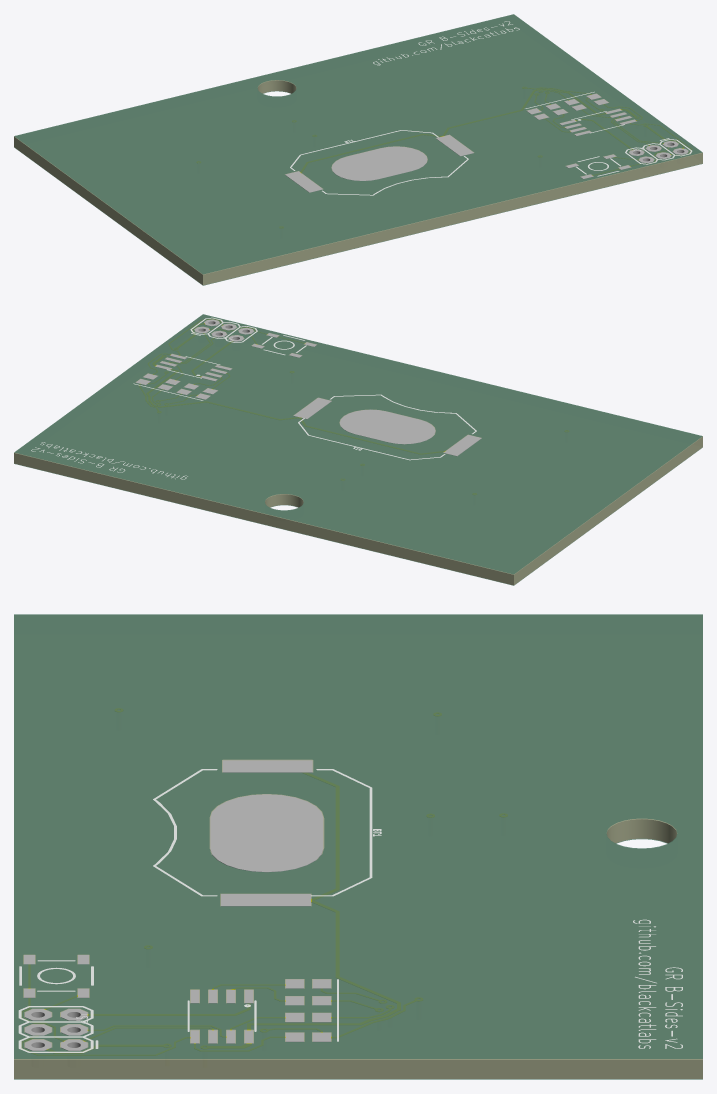
The model's file is b-sides-iowa-2018-badge.glb.
The picture shows the model from 3 angles, top to bottom: view 1: azimuth 30°, elevation 25°; view 2: azimuth 150°, elevation 25°; view 3: azimuth 270°, elevation 25°; orthographic projection. The views are drawn at different scales.
Visible parts, largest first — view 1: =>[0:1:1:9], =>[0:1:1:7], =>[0:1:1:2], =>[0:1:1:5]; view 2: =>[0:1:1:9], =>[0:1:1:7], =>[0:1:1:2], =>[0:1:1:5]; view 3: =>[0:1:1:9], =>[0:1:1:7], =>[0:1:1:2], =>[0:1:1:5].
Boxes of the visible parts, left/top/right/bottom form: =>[0:1:1:9]: left=14, top=15, right=702, bottom=285; =>[0:1:1:7]: left=14, top=14, right=702, bottom=285; =>[0:1:1:2]: left=197, top=87, right=691, bottom=227; =>[0:1:1:5]: left=290, top=21, right=692, bottom=195; =>[0:1:1:9]: left=14, top=315, right=702, bottom=585; =>[0:1:1:7]: left=14, top=314, right=702, bottom=585; =>[0:1:1:2]: left=135, top=319, right=568, bottom=494; =>[0:1:1:5]: left=31, top=317, right=476, bottom=479; =>[0:1:1:9]: left=14, top=615, right=702, bottom=1078; =>[0:1:1:7]: left=14, top=614, right=702, bottom=1079; =>[0:1:1:2]: left=22, top=709, right=507, bottom=1055; =>[0:1:1:5]: left=18, top=769, right=682, bottom=1052.
Bounding box in the file's own units: 0.0743 × 0.00166 × 0.0487.
4 materials, 4 textured.
